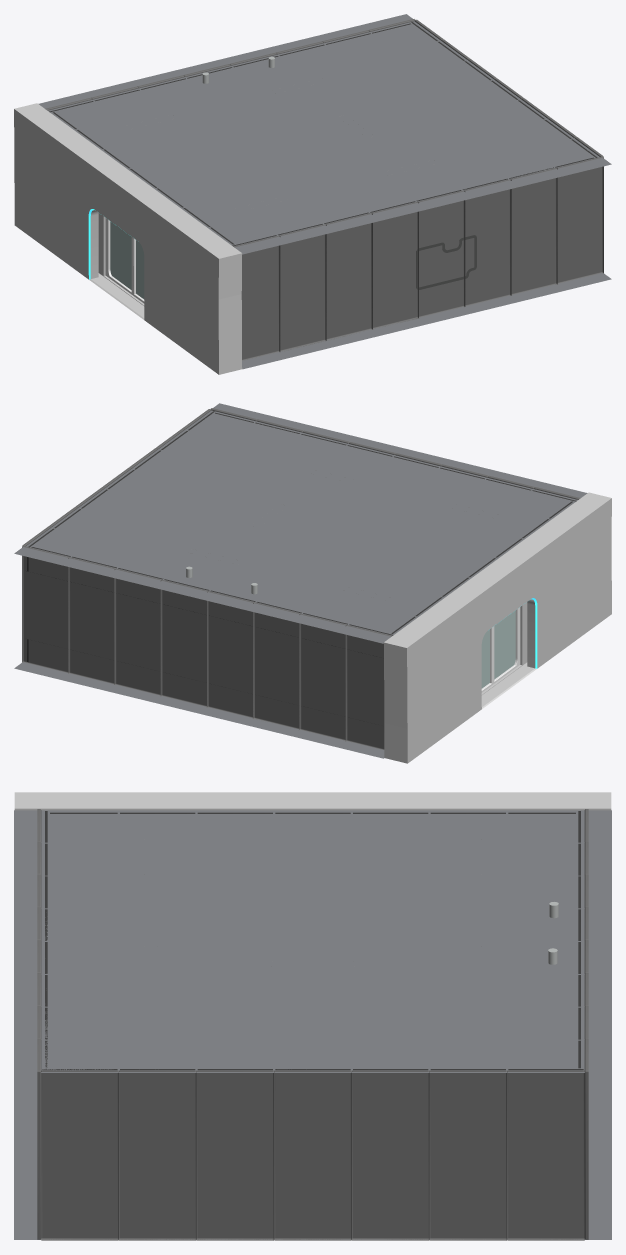
File: Escenario_completo.fbx
3 renders of one model, top to bottom at view 1: azimuth 30°, elevation 25°; view 2: azimuth 150°, elevation 25°; view 3: azimuth 270°, elevation 25°, orthographic. The views are drawn at different scales.
Parts seen in each view (by area): view 1: SM_FLOOR_3_001, Pared, SM_CORRIDOR_DOOR_FRAME.001, SM_DOOR_1.001, Bordes, SM_Periodic_Table; view 2: SM_FLOOR_3_001, Pared, SM_CORRIDOR_DOOR_FRAME.001, SM_DOOR_1.001, Bordes; view 3: SM_FLOOR_3_001, Pared, SM_CORRIDOR_DOOR_FRAME.001, Bordes.
Boxes of the visible parts, bbox=[...] form: SM_FLOOR_3_001: bbox=[38, 14, 611, 369]; Pared: bbox=[45, 19, 603, 360]; SM_CORRIDOR_DOOR_FRAME.001: bbox=[14, 103, 242, 374]; SM_DOOR_1.001: bbox=[105, 218, 144, 303]; Bordes: bbox=[49, 22, 597, 246]; SM_Periodic_Table: bbox=[416, 235, 476, 289]; SM_FLOOR_3_001: bbox=[14, 403, 587, 758]; Pared: bbox=[22, 408, 580, 749]; SM_CORRIDOR_DOOR_FRAME.001: bbox=[383, 492, 611, 763]; SM_DOOR_1.001: bbox=[481, 607, 520, 692]; Bordes: bbox=[26, 411, 576, 724]; SM_FLOOR_3_001: bbox=[14, 810, 611, 1239]; Pared: bbox=[37, 809, 588, 1240]; SM_CORRIDOR_DOOR_FRAME.001: bbox=[14, 792, 611, 810]; Bordes: bbox=[42, 811, 583, 1070].
Size of the model in its own units: 1704 by 514 by 1540.
